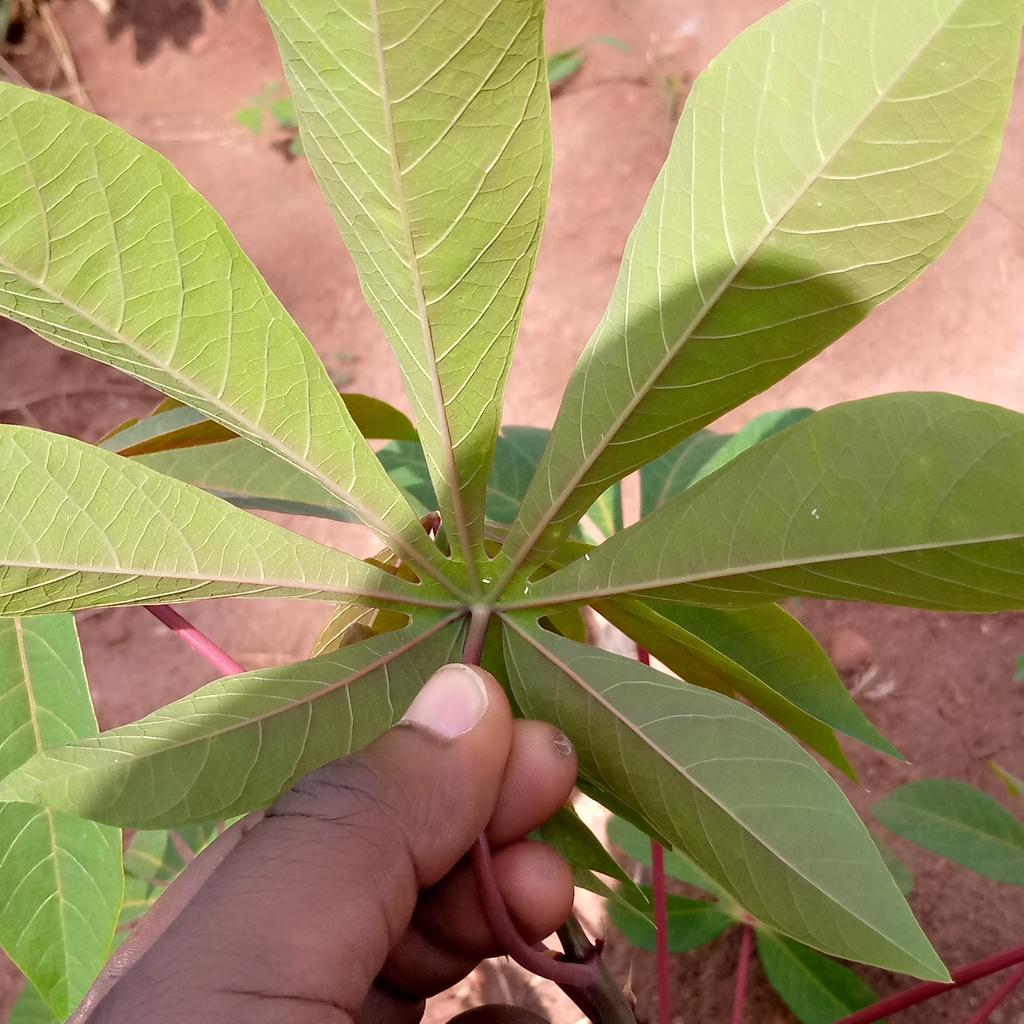adult: (810, 509, 820, 519), (481, 577, 492, 585), (523, 587, 531, 595), (584, 553, 591, 561), (816, 202, 823, 208)
